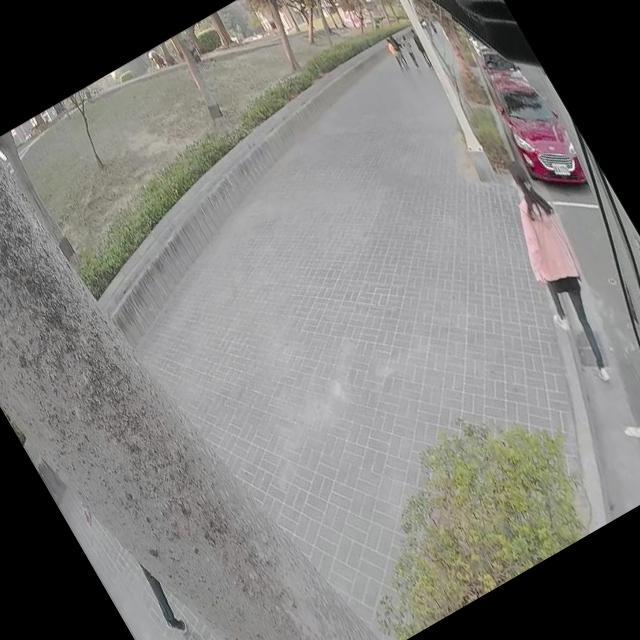person: (475, 155, 639, 387), (408, 29, 434, 70), (386, 32, 412, 70), (382, 38, 407, 72), (398, 33, 422, 67)
